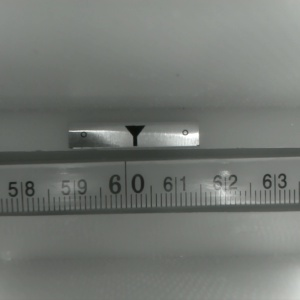0: (130, 173, 144, 193)
1: (179, 176, 185, 191)
2: (227, 174, 237, 189)
3: (277, 173, 287, 188)
5: (7, 181, 17, 197), (61, 180, 71, 196)
6: (109, 173, 122, 194), (162, 176, 172, 191), (261, 173, 271, 188), (212, 174, 222, 189)
8: (23, 180, 34, 196)
9: (77, 179, 87, 195)
finger: (122, 125, 145, 147)
